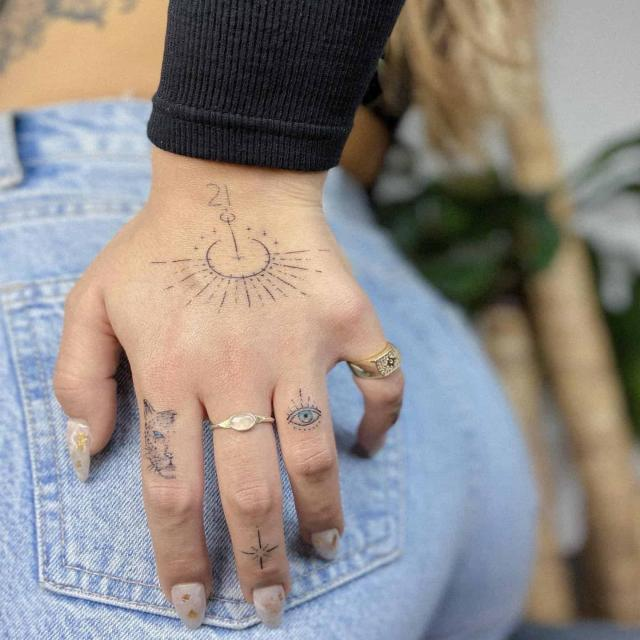bare_hand: (50, 158, 407, 626)
